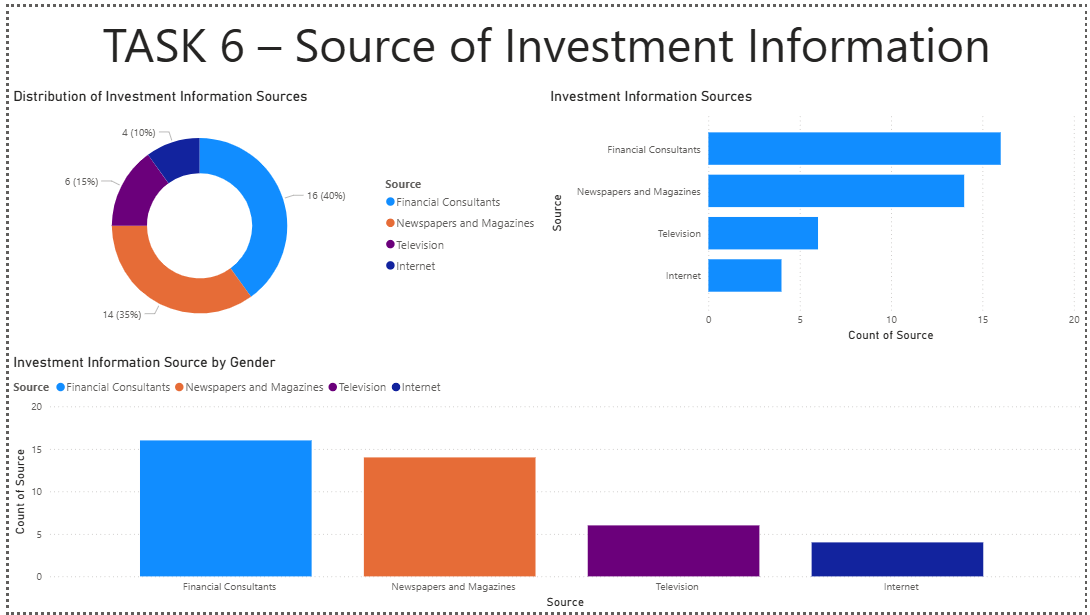

Layout of this report page (visuals, bound fields, positions):
{"tool":"powerbi","page":{"name":"Information Sources","canvas":[1280,720],"ordinal":5},"visuals":[{"type":"textbox","box":[0,0,1280,96],"z":0},{"type":"donutChart","title":"Distribution of Investment Information Sources","fields":{"Category":["Data_set 2 (1).Source"],"Y":["CountNonNull(Data_set 2 (1).Source)"]},"box":[0,96,640,308],"z":1000},{"type":"clusteredBarChart","title":"Investment Information Sources","fields":{"Category":["Data_set 2 (1).Source"],"Y":["CountNonNull(Data_set 2 (1).Source)"]},"box":[640,96,640,306],"z":2000},{"type":"columnChart","title":"Investment Information Source by Gender","fields":{"Category":["Data_set 2 (1).Source"],"Y":["CountNonNull(Data_set 2 (1).Source)"],"Series":["Data_set 2 (1).Source"]},"box":[0,412,1280,308],"z":3000}]}

Visuals, with their boxes in screenshot pixels (x1, y1, x2, y2), scaled from the page's 1280x720 canvas onto the 1090x615 screenshot:
textbox: BBox(0, 0, 1089, 82)
"Distribution of Investment Information Sources" donutChart: BBox(0, 82, 545, 345)
"Investment Information Sources" clusteredBarChart: BBox(545, 82, 1089, 343)
"Investment Information Source by Gender" columnChart: BBox(0, 352, 1089, 614)
